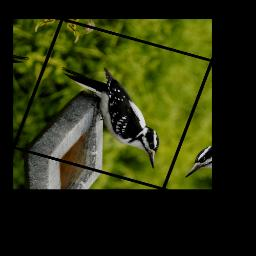Woodpecker: (34, 57, 187, 171)
